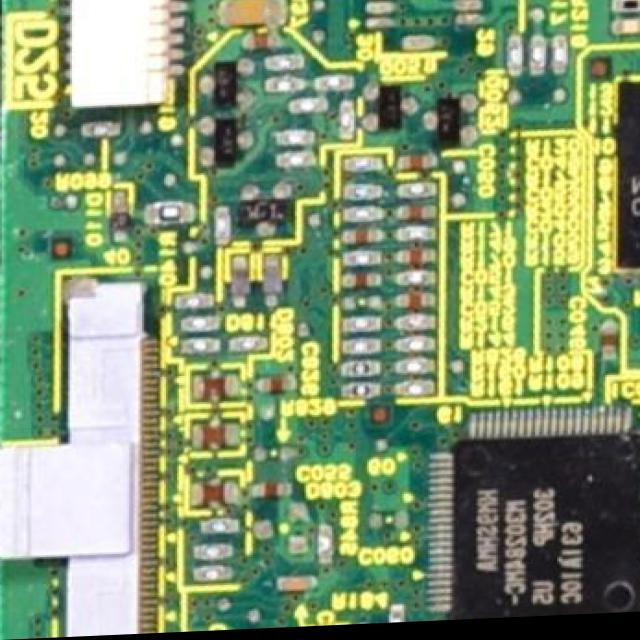IC: (426, 416, 640, 625), (612, 91, 640, 283)
capacitor: (214, 0, 292, 37), (274, 573, 319, 599), (598, 324, 620, 372), (252, 375, 302, 396), (393, 154, 439, 176), (342, 226, 385, 249), (390, 250, 437, 270), (339, 273, 387, 292), (250, 482, 291, 503), (393, 210, 439, 227), (395, 295, 441, 312), (607, 23, 640, 46)
connector: (2, 280, 147, 640), (50, 0, 178, 113)
resistor: (144, 202, 197, 230), (387, 358, 439, 383), (339, 156, 384, 182), (250, 444, 297, 468), (334, 99, 358, 145), (389, 183, 439, 205), (208, 203, 234, 245), (191, 563, 236, 586), (261, 76, 304, 100), (273, 151, 317, 174), (284, 95, 328, 117), (316, 525, 338, 569), (547, 34, 568, 79), (506, 39, 528, 81), (397, 342, 439, 364), (341, 362, 382, 384), (525, 39, 544, 86), (397, 313, 441, 333), (338, 318, 384, 337), (175, 340, 221, 359), (193, 544, 234, 565), (171, 294, 214, 314), (266, 56, 308, 76), (199, 518, 243, 537), (338, 340, 384, 358), (394, 381, 439, 399), (176, 317, 222, 334), (341, 209, 382, 228), (396, 273, 437, 292), (318, 76, 356, 95), (337, 299, 384, 314), (394, 228, 433, 246), (279, 131, 319, 148), (231, 341, 268, 359), (341, 385, 380, 402), (348, 183, 389, 198), (345, 254, 384, 268), (612, 3, 640, 20), (386, 608, 408, 627), (586, 0, 626, 3)
transistor: (353, 83, 422, 140), (193, 119, 251, 177), (240, 186, 297, 241), (199, 60, 258, 110), (430, 95, 480, 152)
